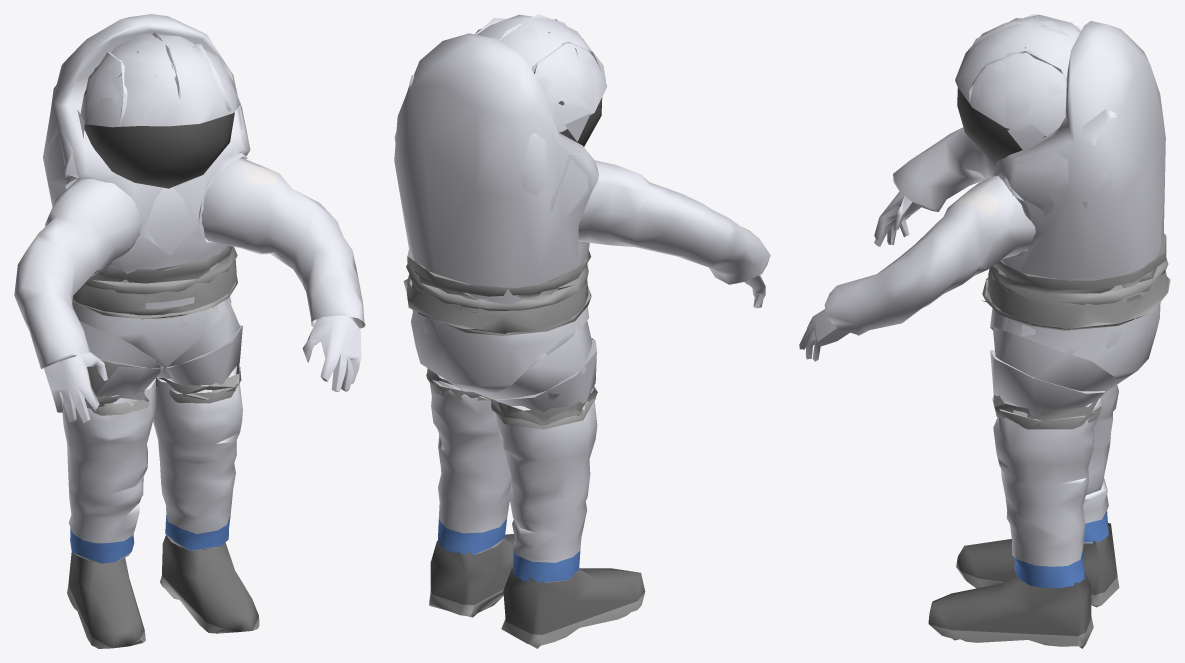
Rendered from mark3_lod2.glb.
3 views of the same model, side by side, from view 1: azimuth 30°, elevation 25°; view 2: azimuth 150°, elevation 25°; view 3: azimuth 270°, elevation 25° (orthographic). The views are drawn at different scales.
Parts seen in each view (by area): view 1: mark3_lod2; view 2: mark3_lod2; view 3: mark3_lod2.
Boxes of the visible parts, x1,y1,x2,y2 form: mark3_lod2: (14,14,365,648); mark3_lod2: (394,14,770,648); mark3_lod2: (799,14,1170,648).
Bounding box in the file's own units: 1.11 × 1.99 × 1.13.
